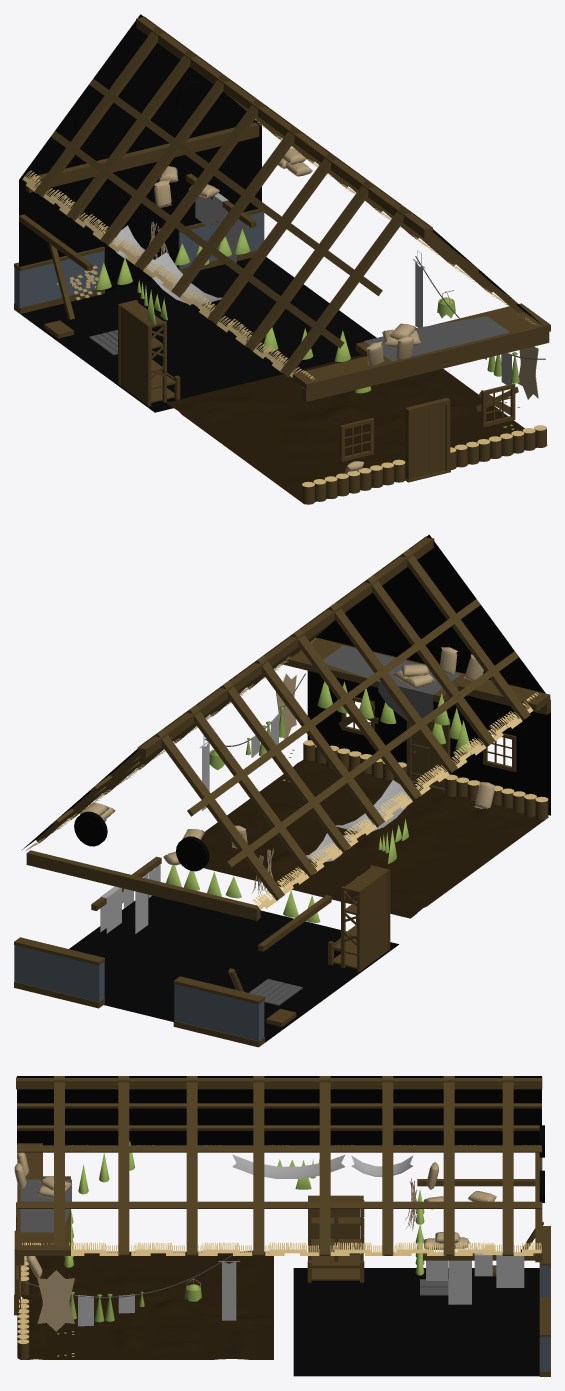
File: Cabin_Blockout_11.fbx
3 views of the same model, one above another, from view 1: azimuth 30°, elevation 25°; view 2: azimuth 150°, elevation 25°; view 3: azimuth 270°, elevation 25° (orthographic). The views are drawn at different scales.
Visible parts, largest first — view 1: polySurface3571; view 2: polySurface3571; view 3: polySurface3571.
Part boxes in pixels (<box>): polySurface3571: <box>14,14,550,504</box>; polySurface3571: <box>14,534,550,1047</box>; polySurface3571: <box>14,1076,550,1376</box>.
Size of the model in its own units: 866 by 914 by 1801.
